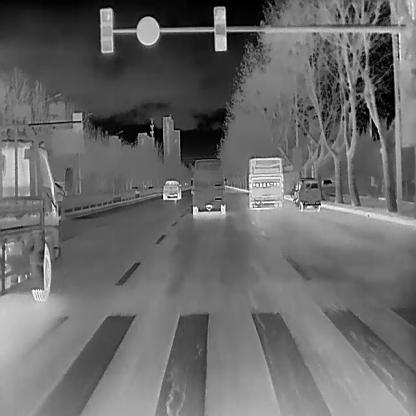car: (291, 177, 322, 210)
truck: (0, 121, 75, 300), (189, 157, 227, 221), (245, 154, 284, 210), (160, 176, 182, 203)
